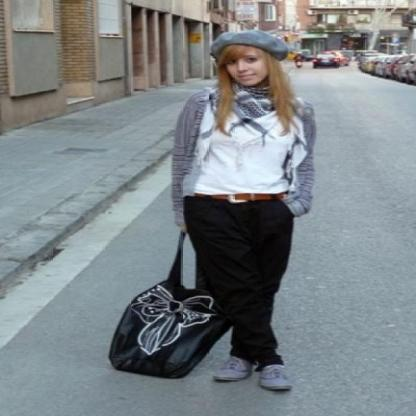bag: (108, 274, 222, 378)
hat: (212, 30, 277, 53)
jacket: (167, 98, 315, 217)
pants: (182, 193, 294, 371)
shirt: (182, 112, 306, 204)
shoe: (212, 354, 292, 394)
